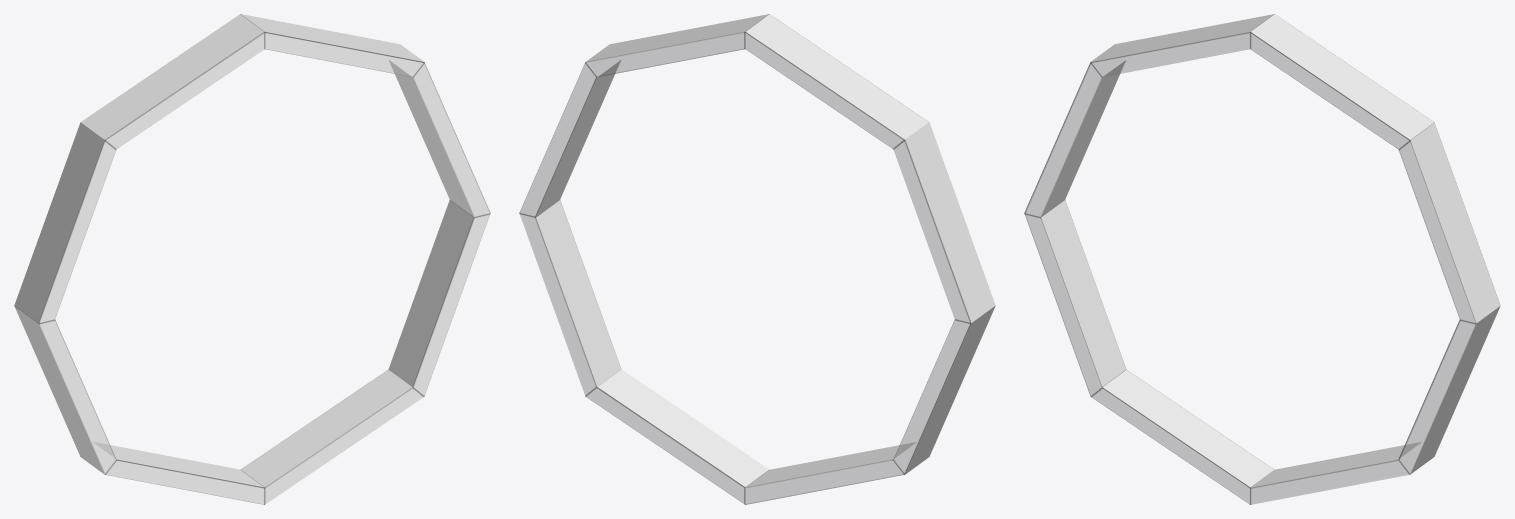
Rendered from nodeRing.glb.
3 renders of one model, left to right at view 1: azimuth 30°, elevation 25°; view 2: azimuth 150°, elevation 25°; view 3: azimuth 330°, elevation 25°, orthographic.
Visible parts, largest first — view 1: Ring; view 2: Ring; view 3: Ring.
Boxes of the visible parts, box(x1,y1,x2,y2) form: Ring: box(14, 14, 490, 504); Ring: box(519, 14, 995, 504); Ring: box(1024, 14, 1500, 504).
Bounding box in the file's own units: 5.4 × 5.4 × 0.5.
1 material, 1 textured.
